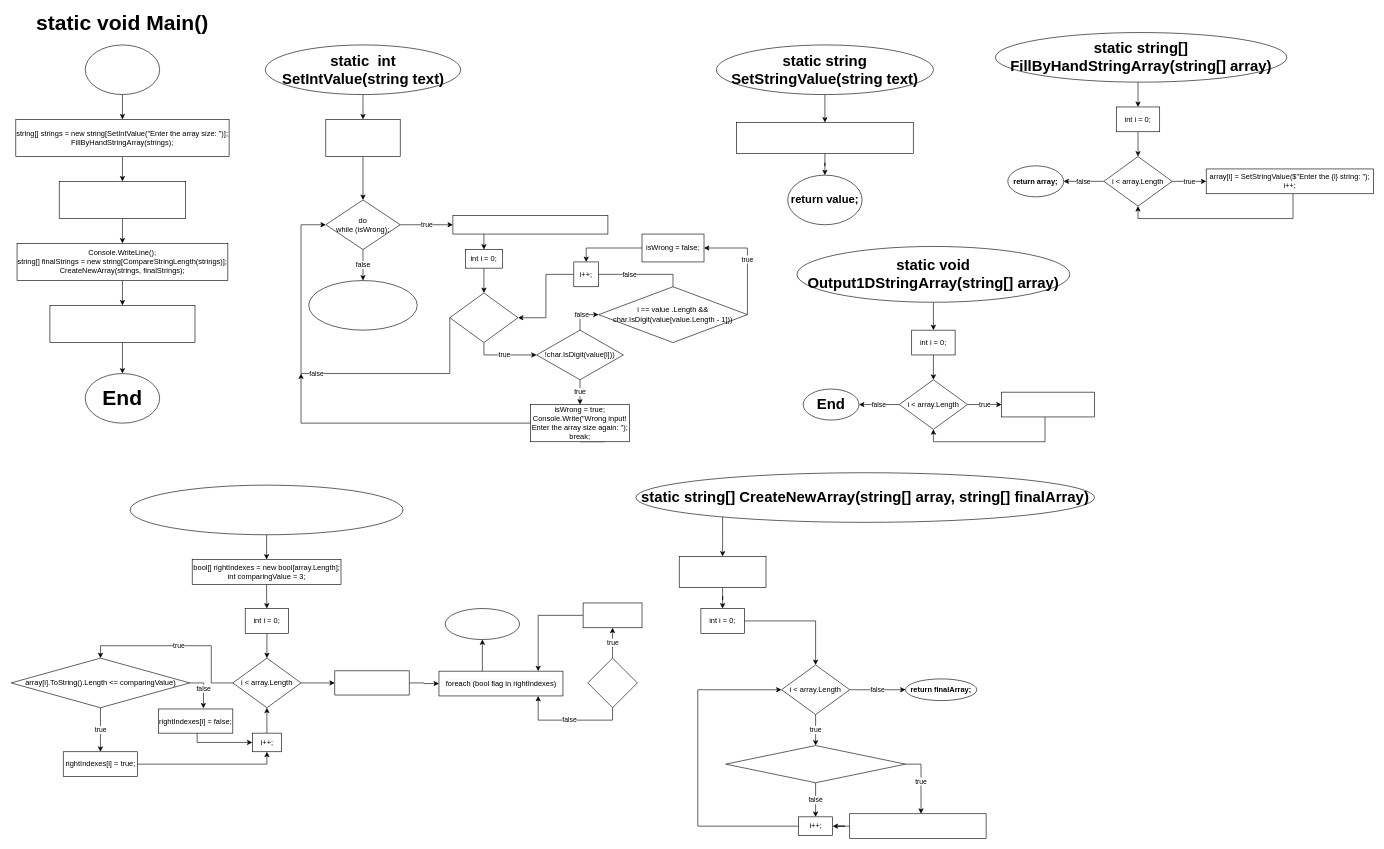
Image size: 1384x849. Some labels were removed from this diagram. Here are the shapes that lost their labels. From the top down, the box of each, then its label:
(85, 44, 160, 95): Start
(325, 119, 400, 157): string value; bool isWrong = false; Console.Write(text);
(736, 122, 913, 153): Console.Write(text); string? value = Console.ReadLine() ?? string.Empty;
(59, 181, 186, 219): Console.WriteLine("Values of array:"); Output1DStringArray(strings);
(452, 215, 608, 234): value = Console.ReadLine() ?? string.Empty;
(49, 305, 195, 343): Console.WriteLine("Values of final array:"); Output1DStringArray(finalStrings);
(308, 280, 417, 330): return Convert.ToInt32(value)
(449, 292, 518, 343): i < value.Length;
(1001, 392, 1095, 417): Console.WriteLine(array[i]); i++;
(130, 485, 403, 535): static int CompareStringLength(string[] array)
(679, 556, 766, 587): int finalArrayIndex = 0; int comparingValue = 3;
(445, 608, 520, 640): return arraySize;
(582, 602, 642, 628): arraySize++
(334, 670, 409, 695): int arraySize = 0;
(587, 658, 637, 708): flag
(725, 745, 906, 783): array[i].ToString().Length <= comparingValue
(849, 813, 986, 839): finalArray[finalArrayIndex++] = array[i];
